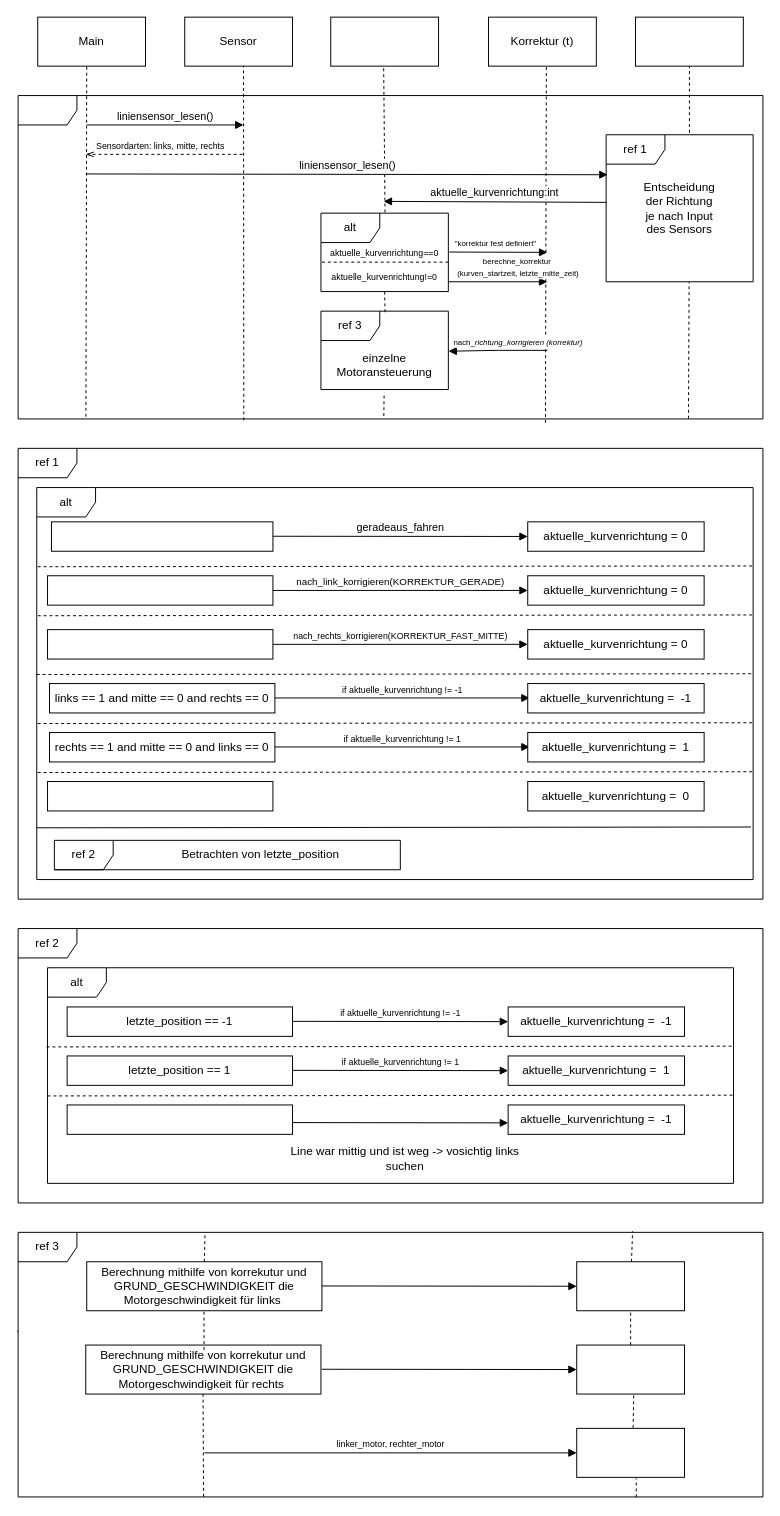
Some shapes in this 780 by 1516 pixel diagram are drawn without their labels. The box of each missing label's shape, as (x1, y1, x2, y2) in pixels:
Antrieb: (330, 16, 439, 66)
else case: (66, 1104, 293, 1134)
Linie_folgen "logik": (635, 16, 743, 66)
linker_motor: (576, 1261, 685, 1311)
links == 1 and rechts == 1: (47, 781, 273, 811)
loop: (17, 95, 763, 419)
mitte == 1 and links == 0 and rechts == 0: (50, 521, 273, 551)
mitte == 1 and links == 1 and rechts == 0: (47, 575, 273, 605)
mitte == 1 and rechts == 1 and links == 0: (47, 629, 273, 659)
motoren_setzen: (576, 1427, 685, 1477)
rechter_motor: (576, 1344, 685, 1394)
